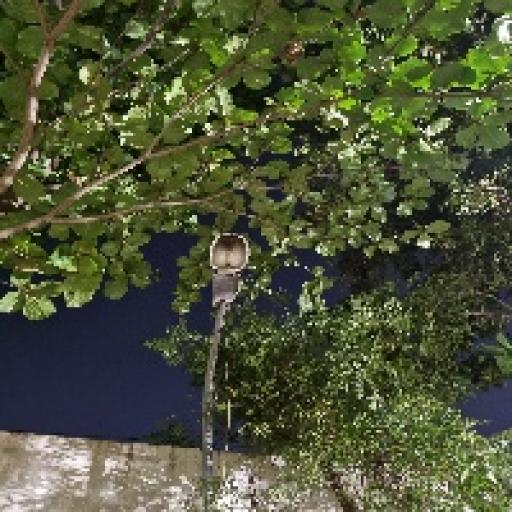Not Working: (181, 228, 264, 318)
